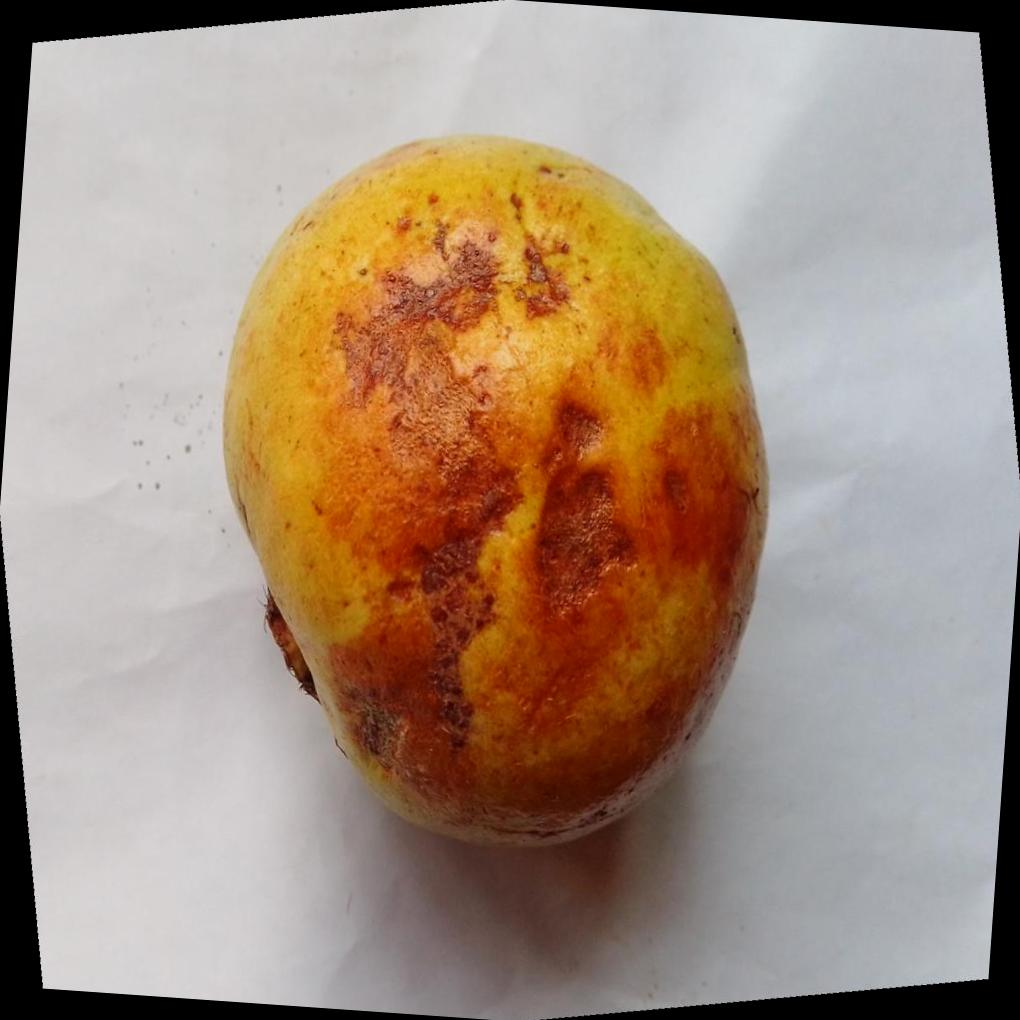FreshOrange: (223, 129, 769, 847)
